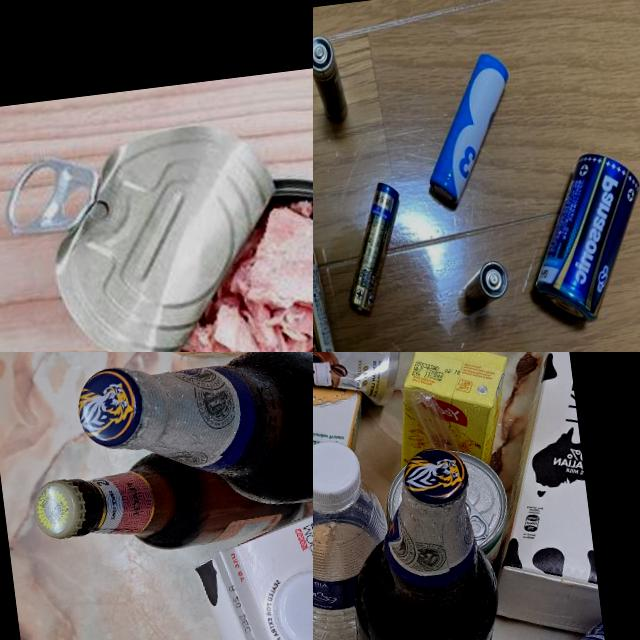aba de lata: (0, 147, 104, 236), (462, 496, 489, 540)
bateria: (516, 143, 640, 332), (406, 46, 526, 212), (332, 176, 415, 320), (313, 30, 352, 126), (456, 254, 514, 308)
caixinha: (459, 352, 604, 640), (192, 472, 313, 640), (383, 352, 521, 476), (313, 371, 379, 571)
garrafa de vidro: (78, 352, 313, 535), (330, 442, 514, 640), (29, 449, 300, 570)
garrafa plástica: (313, 479, 401, 640)
lata: (37, 96, 313, 352), (379, 444, 516, 579), (313, 352, 409, 425)
tampa plástica: (313, 436, 367, 514), (262, 560, 313, 640)
